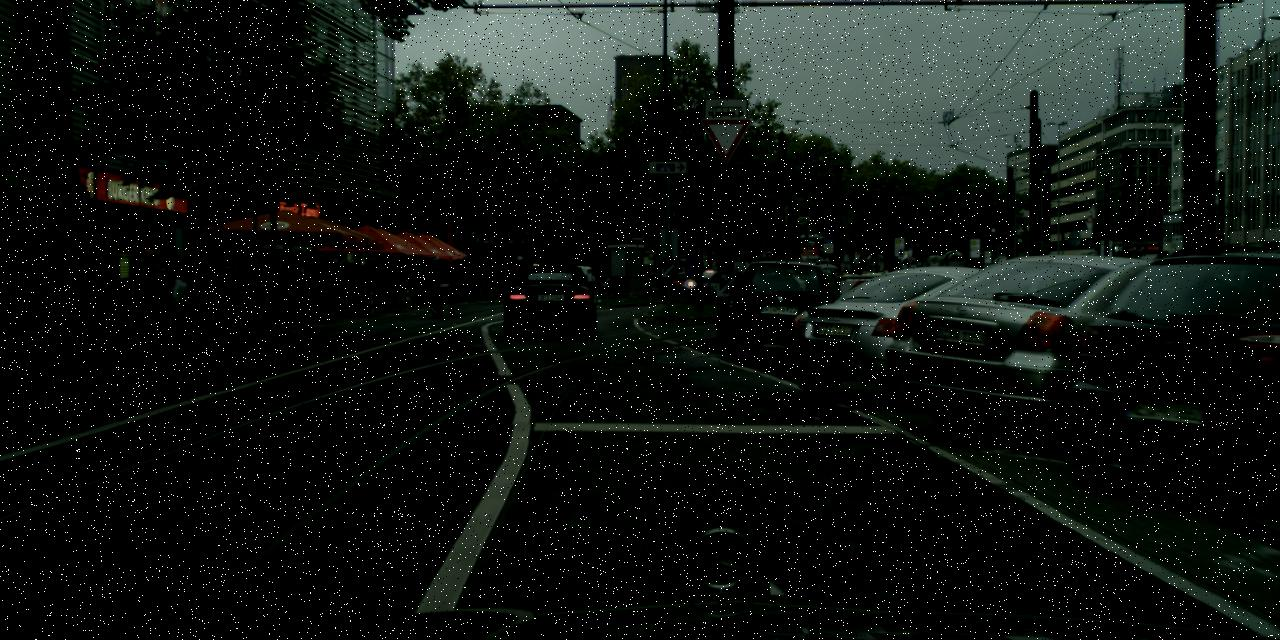ped: (277, 256, 311, 328), (425, 256, 456, 318), (166, 250, 188, 304), (188, 257, 208, 304), (268, 266, 271, 310)
